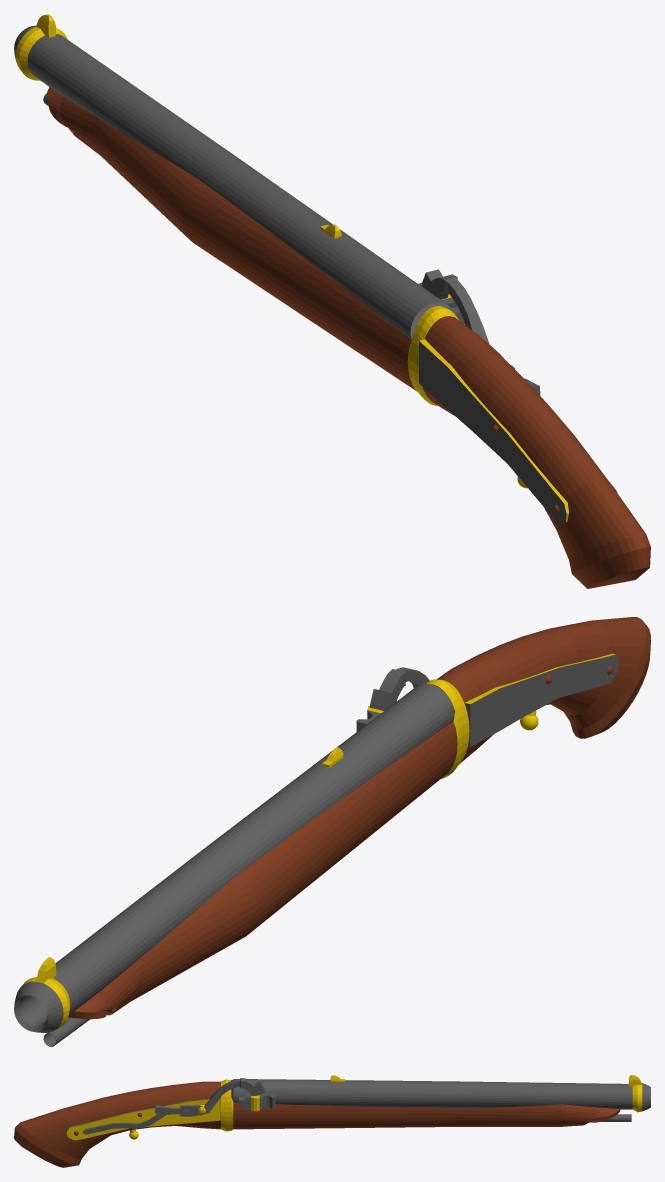
The model's file is Arquebuse.fbx.
3 renders of one model, top to bottom at view 1: azimuth 30°, elevation 25°; view 2: azimuth 150°, elevation 25°; view 3: azimuth 270°, elevation 25°, orthographic. The views are drawn at different scales.
Visible parts, largest first — view 1: Pistolet; view 2: Pistolet; view 3: Pistolet.
Boxes of the visible parts, <box> form: Pistolet: <box>14,14,650,588</box>; Pistolet: <box>14,617,650,1046</box>; Pistolet: <box>14,1075,650,1167</box>.
Size of the model in its own units: 72.58 by 157 by 963.
